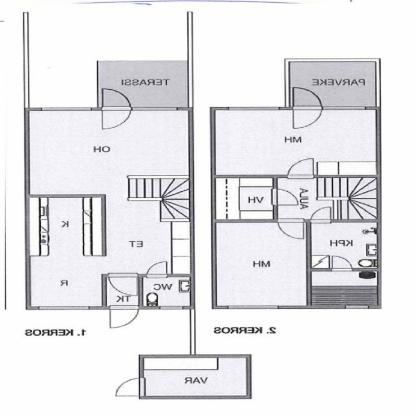door: (98, 86, 134, 130), (290, 88, 324, 130), (99, 303, 146, 329), (108, 376, 150, 398), (112, 274, 144, 294), (277, 217, 306, 239), (281, 158, 316, 176), (267, 189, 301, 205), (327, 255, 354, 272), (145, 263, 171, 277), (308, 206, 332, 220)
window: (133, 104, 176, 114), (40, 305, 90, 313), (227, 305, 279, 312), (230, 106, 281, 112), (37, 107, 95, 112), (340, 304, 368, 312), (321, 107, 365, 110)
zone: (30, 112, 188, 308), (215, 110, 377, 176), (216, 223, 306, 305), (96, 61, 188, 107), (287, 62, 376, 107), (276, 179, 372, 218), (142, 358, 246, 394), (311, 220, 376, 268), (216, 176, 268, 218), (312, 271, 376, 305), (141, 274, 187, 304), (109, 277, 140, 305)
